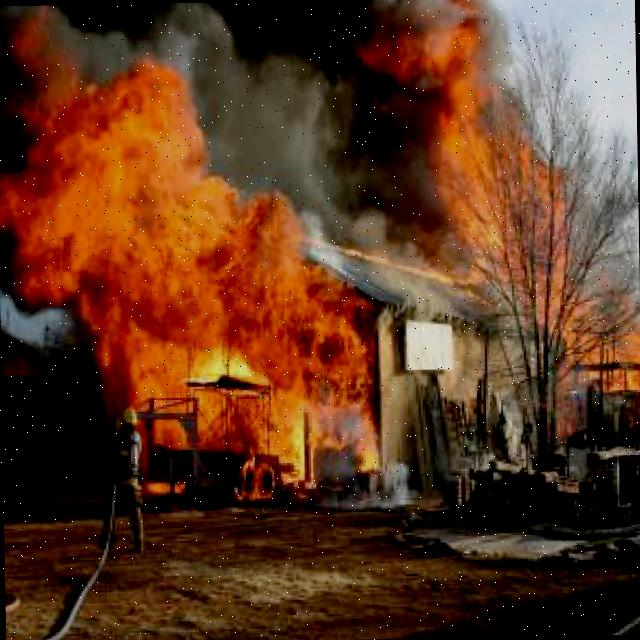fire: (89, 194, 375, 453), (0, 53, 209, 203), (437, 89, 567, 295), (0, 197, 89, 327), (366, 20, 495, 92), (559, 297, 640, 394), (356, 252, 440, 287), (228, 450, 279, 502)
